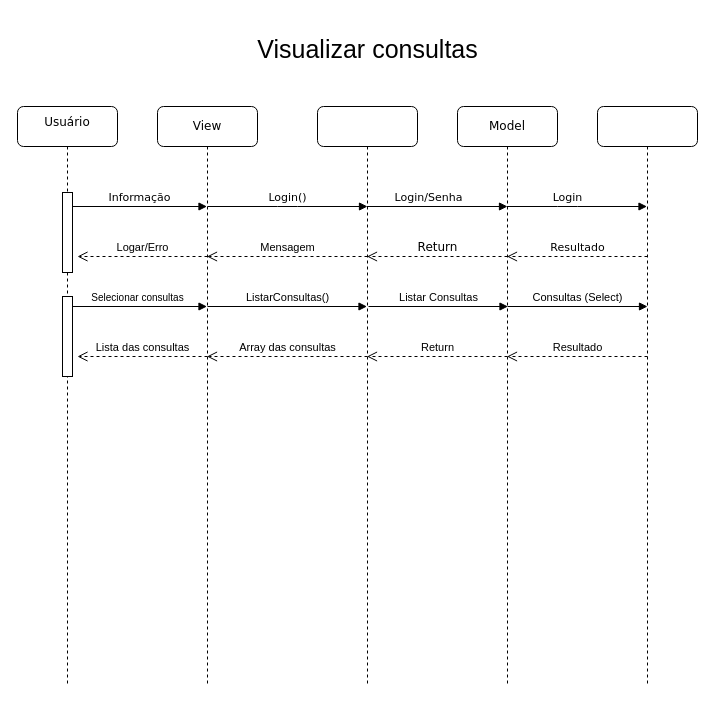
The diagram is 715 pixels wide and 704 high, and some of its shapes have lost their labels. Here are the shapes that lost their labels. From the top down, the box of each, then its label:
(316, 106, 418, 686): Controller
(596, 106, 698, 686): Banco de Dados
